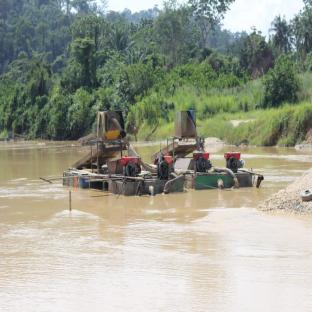ProcessingEquipment: (152, 89, 258, 204), (62, 99, 175, 197), (72, 101, 131, 173), (158, 106, 214, 161), (220, 144, 250, 176), (153, 150, 176, 181), (190, 149, 216, 175), (120, 154, 145, 179)
